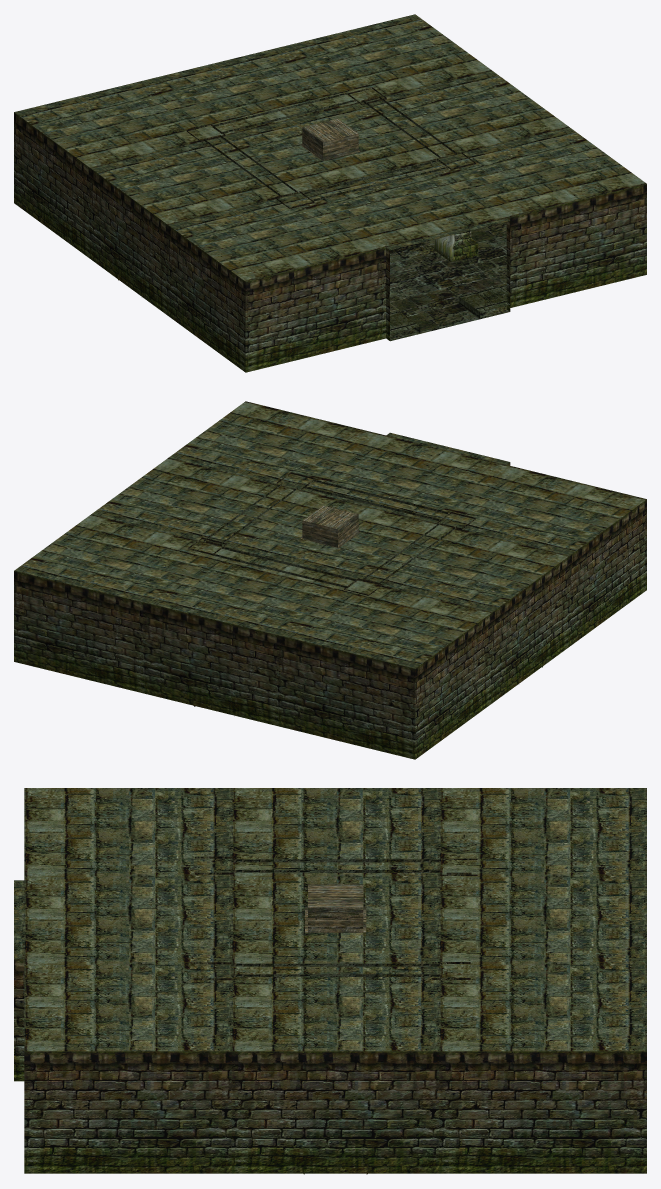
File: lbc1x1.glb
3 views of the same model, one above another, from view 1: azimuth 30°, elevation 25°; view 2: azimuth 150°, elevation 25°; view 3: azimuth 270°, elevation 25° (orthographic). The views are drawn at different scales.
Visible parts, largest first — view 1: lbc1x1-col; view 2: lbc1x1-col; view 3: lbc1x1-col.
Boxes of the visible parts, left/top/right/bottom form: lbc1x1-col: left=14, top=14, right=646, bottom=372; lbc1x1-col: left=14, top=401, right=646, bottom=759; lbc1x1-col: left=14, top=788, right=646, bottom=1174.
Bounding box in the file's own units: 30 × 8.35 × 30.5.
Materials: 7 (7 with a texture image).
